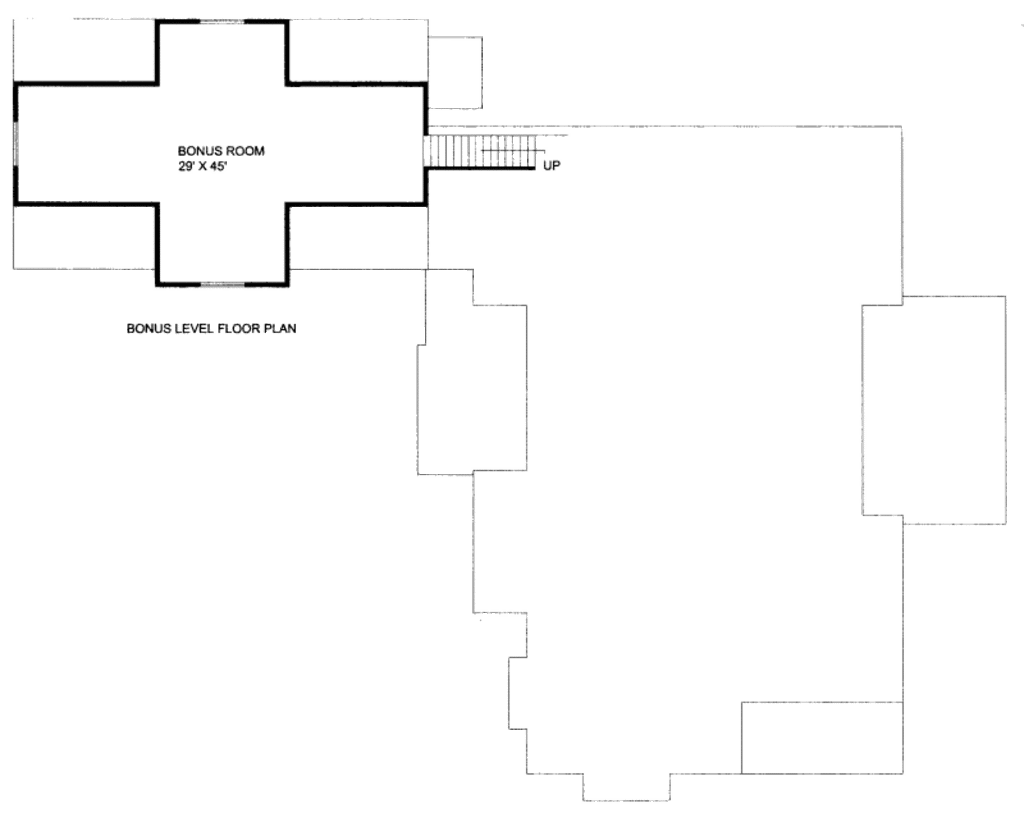stairs: (412, 128, 552, 181)
window: (202, 276, 243, 288), (12, 117, 20, 165), (197, 18, 247, 25)
